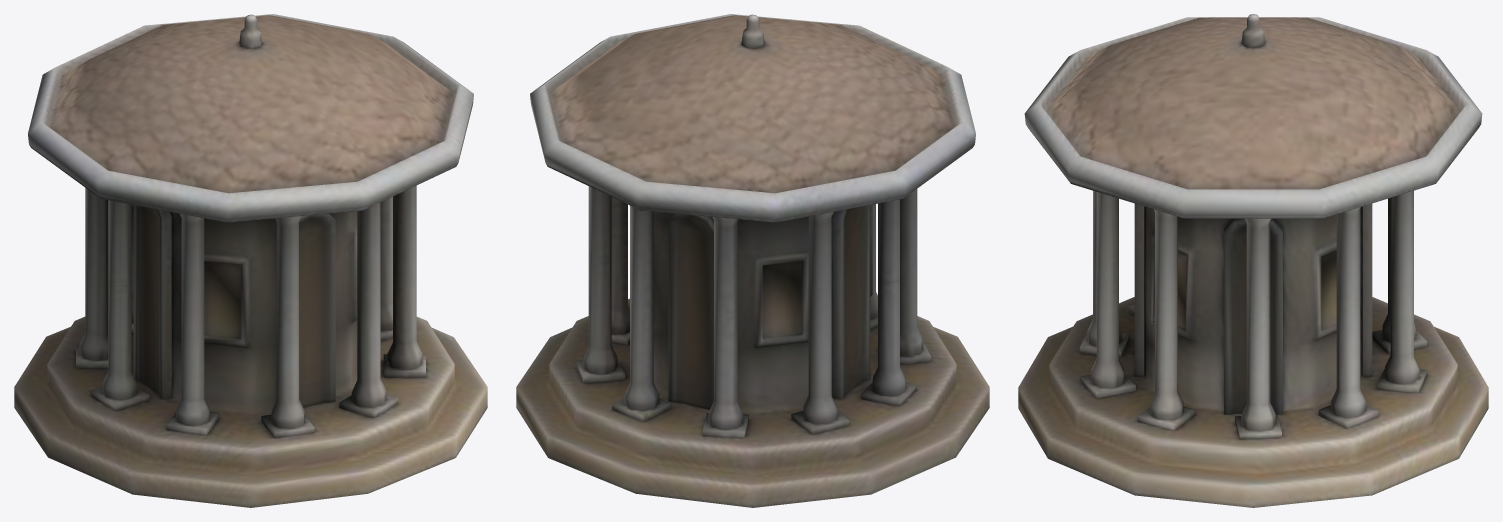
Rendered from Temple_roman.glb.
The picture shows the model from 3 angles, left to right: view 1: azimuth 30°, elevation 25°; view 2: azimuth 150°, elevation 25°; view 3: azimuth 270°, elevation 25°; orthographic projection.
Visible parts, largest first — view 1: Cylinder.005; view 2: Cylinder.005; view 3: Cylinder.005.
Boxes of the visible parts, x1,y1,x2,y2 form: Cylinder.005: [14, 14, 487, 507]; Cylinder.005: [516, 14, 989, 507]; Cylinder.005: [1018, 14, 1488, 507].
Bounding box in the file's own units: 17.72 × 16.38 × 17.72.
1 material, 1 textured.
